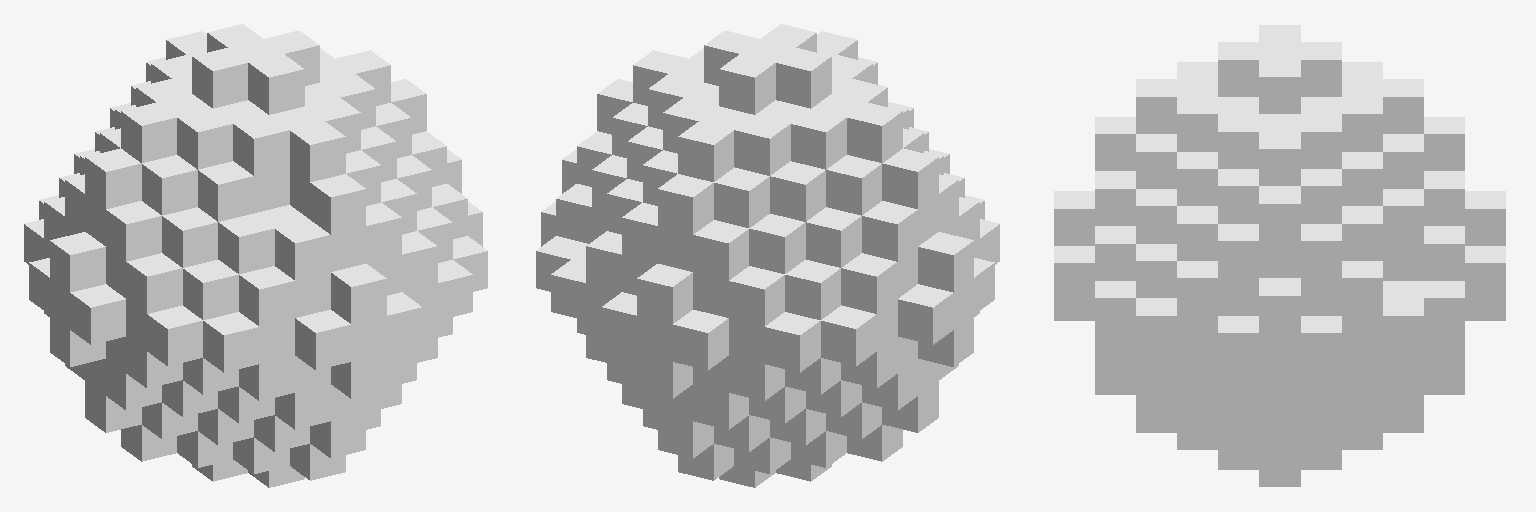
File: boulet.obj
3 views of the same model, side by side, from view 1: azimuth 30°, elevation 25°; view 2: azimuth 150°, elevation 25°; view 3: azimuth 270°, elevation 25° (orthographic).
Size of the model in its own units: 11 by 11 by 11.